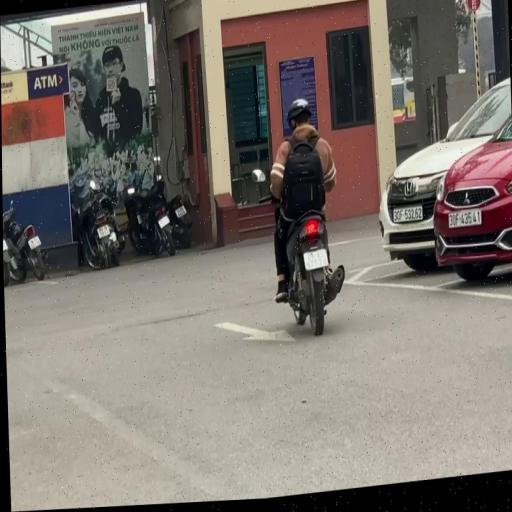bike: (260, 96, 346, 346)
numberplate: (303, 252, 328, 274), (26, 234, 42, 252), (96, 224, 110, 242), (156, 215, 170, 232), (172, 206, 186, 221)
with helmet: (286, 102, 312, 130)
